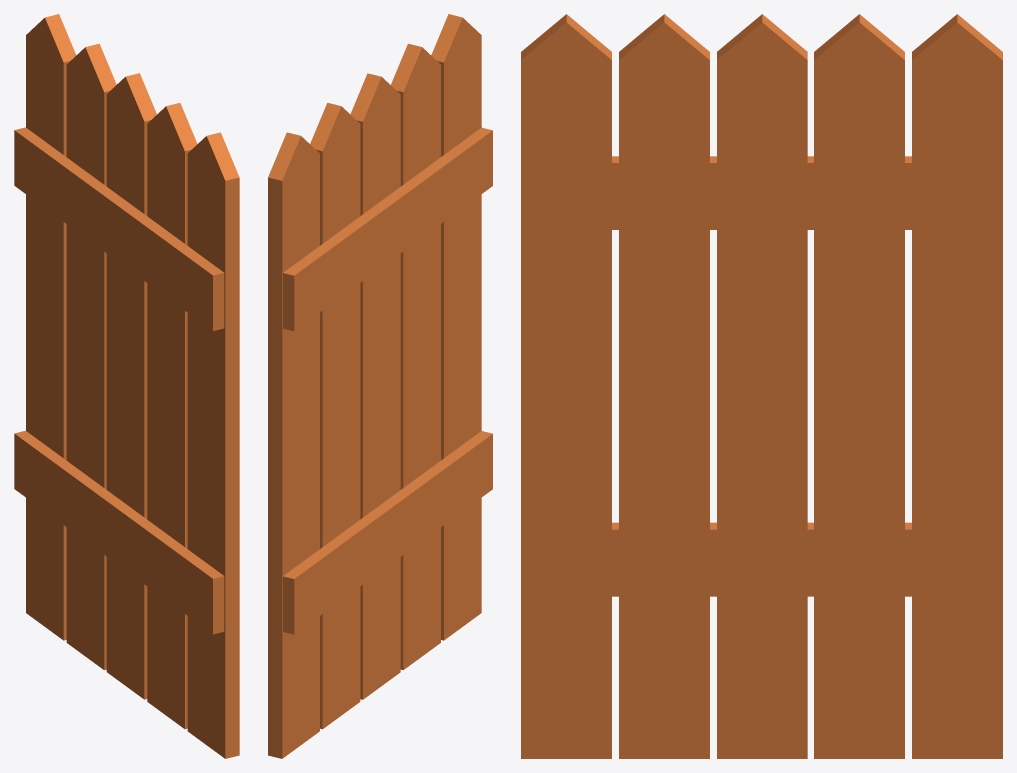
File: picket_fence_tall.gltf
3 views of the same model, side by side, from view 1: azimuth 30°, elevation 25°; view 2: azimuth 150°, elevation 25°; view 3: azimuth 270°, elevation 25° (orthographic). The views are drawn at different scales.
Parts seen in each view (by area): view 1: Plank4, Plank1, Plank5, Plank3, Plank2, CrossBoard.001-col, CrossBoard-col; view 2: Plank5, Plank2, Plank4, Plank3, Plank1, CrossBoard-col, CrossBoard.001-col; view 3: Plank4, Plank5, Plank2, Plank3, Plank1, CrossBoard.001-col, CrossBoard-col.
Part boxes in pixels (<box>): Plank4: <box>187,132,239,758</box>; Plank1: <box>106,73,156,699</box>; Plank5: <box>26,14,76,640</box>; Plank3: <box>147,103,197,729</box>; Plank2: <box>66,43,116,670</box>; CrossBoard.001-col: <box>14,430,224,634</box>; CrossBoard-col: <box>14,127,224,330</box>; Plank5: <box>268,132,319,758</box>; Plank2: <box>310,103,360,729</box>; Plank4: <box>431,14,481,640</box>; Plank3: <box>391,43,440,670</box>; Plank1: <box>350,73,400,699</box>; CrossBoard-col: <box>283,127,492,331</box>; CrossBoard.001-col: <box>283,431,492,634</box>; Plank4: <box>521,14,611,758</box>; Plank5: <box>912,14,1002,758</box>; Plank2: <box>814,14,904,758</box>; Plank3: <box>619,14,709,758</box>; Plank1: <box>717,14,807,758</box>; CrossBoard.001-col: <box>612,522,911,596</box>; CrossBoard-col: <box>612,156,911,229</box>.
Size of the model in its own units: 0.1709 by 3.81 by 2.26.
